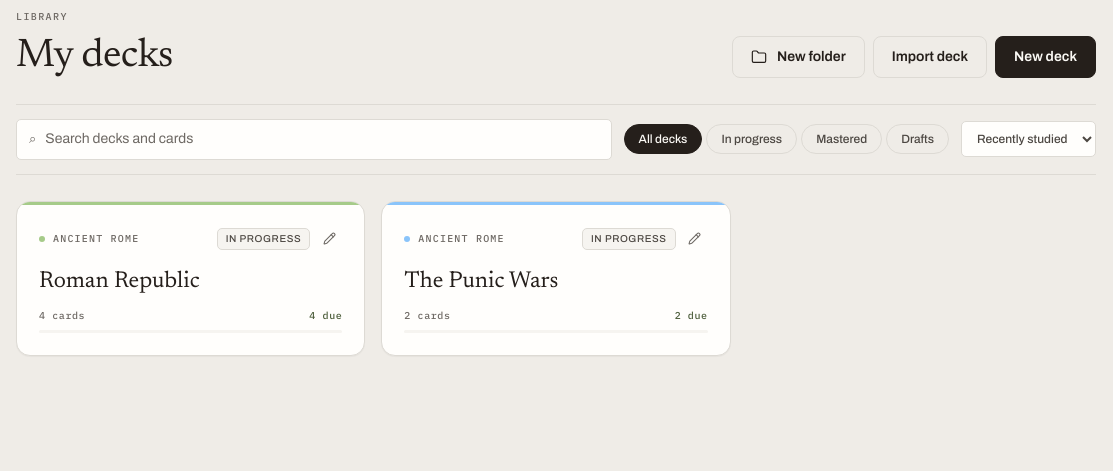
it: when nothing matches › does not tell someone to shorten a search they never typed
Click the button "Mastered" at (842,140), box left=801, top=124, right=882, bottom=154
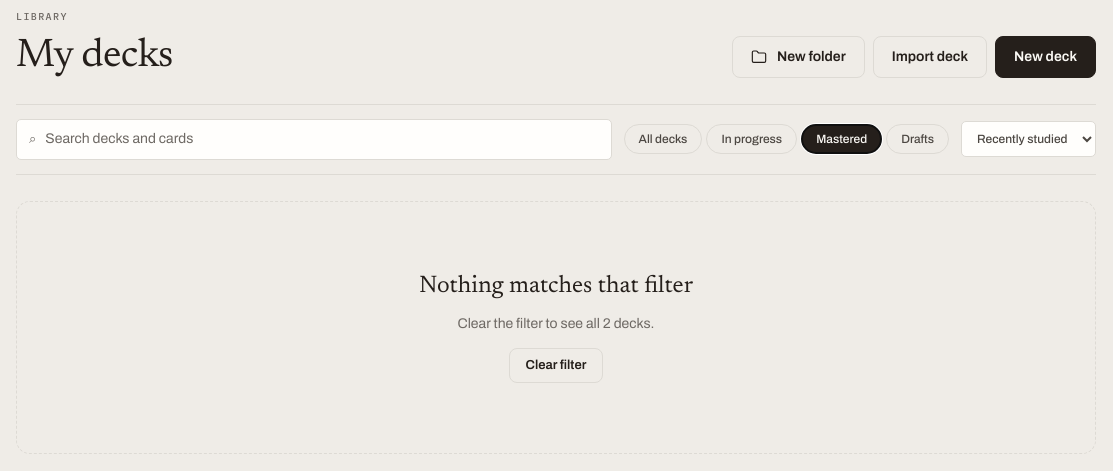
Expected: the text "Nothing matches that filter" is shown, left=419, top=272, right=693, bottom=300
Expected: the button "Clear filter" is shown, left=509, top=348, right=603, bottom=383
